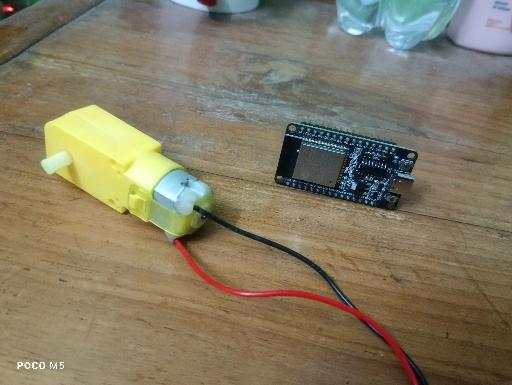Esp32: (275, 118, 418, 212)
Motor: (40, 104, 214, 239)
